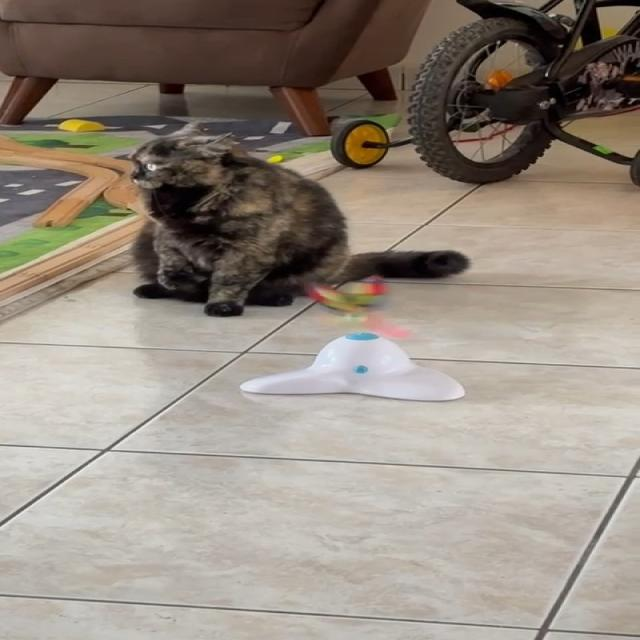authorized: (125, 120, 471, 317)
